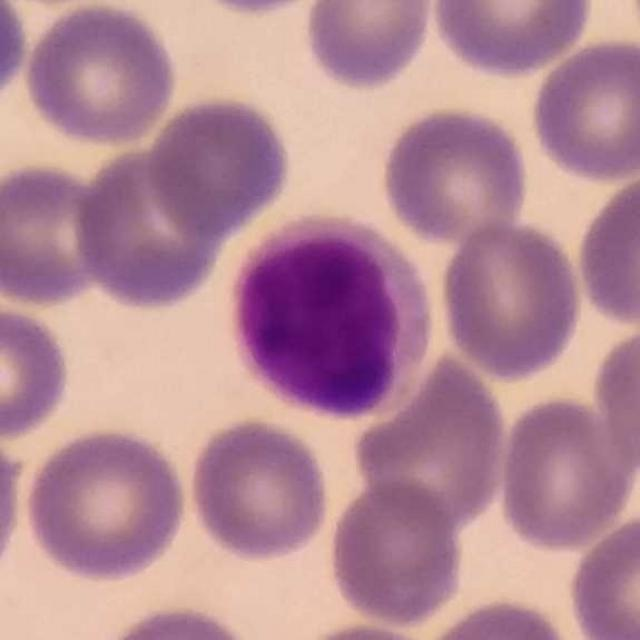Lymphocyte: (220, 208, 438, 426)
RBC: (347, 348, 512, 534), (21, 423, 193, 585), (68, 142, 229, 314), (434, 214, 587, 384), (21, 0, 180, 149), (493, 391, 638, 554), (376, 102, 533, 247), (184, 414, 332, 565), (144, 91, 296, 238), (324, 474, 467, 629), (0, 157, 114, 310), (526, 33, 640, 186), (426, 0, 599, 80), (299, 0, 438, 92), (572, 166, 640, 330), (0, 298, 76, 444), (564, 510, 640, 639), (589, 317, 640, 481), (416, 593, 581, 640), (91, 601, 264, 640), (0, 423, 31, 593), (290, 617, 448, 640), (0, 0, 32, 113), (178, 0, 343, 19), (625, 0, 640, 69)
